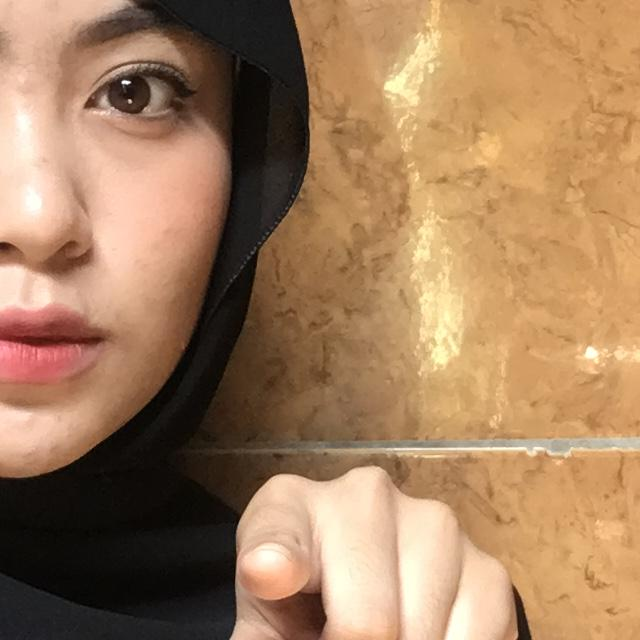kamu: (120, 391, 585, 640)
